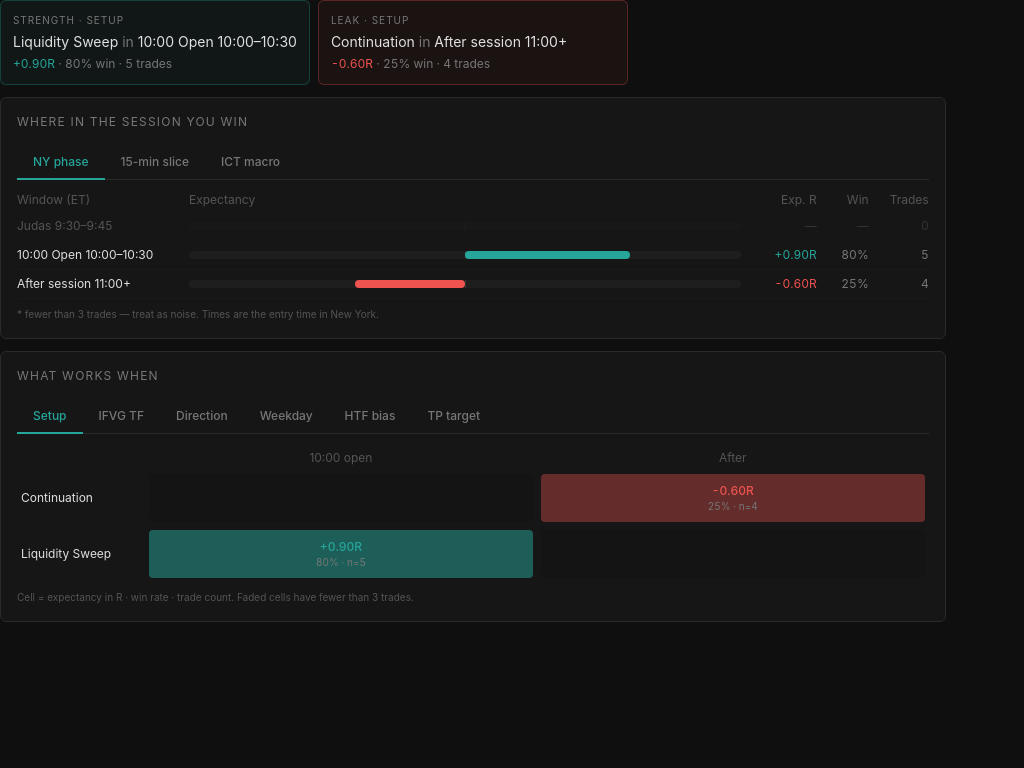
Scenario: TimeEdgeSection › shows the setup x phase matrix and an empty hint for unlogged dimensions
Expected: the text "Liquidity Sweep" is shown, [17,526,145,582]
Click the button "IFVG TF" at (121, 417), box [82,400,160,434]
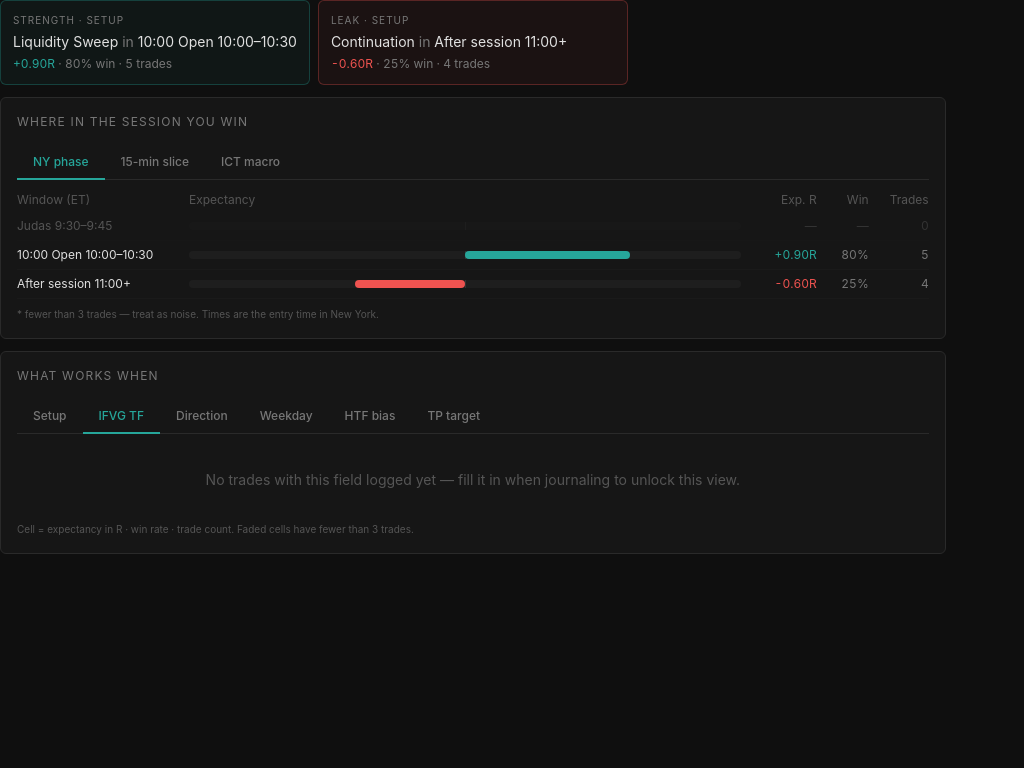
Expected: the text "No trades with this field logged yet" is shown, [206,471,740,488]
